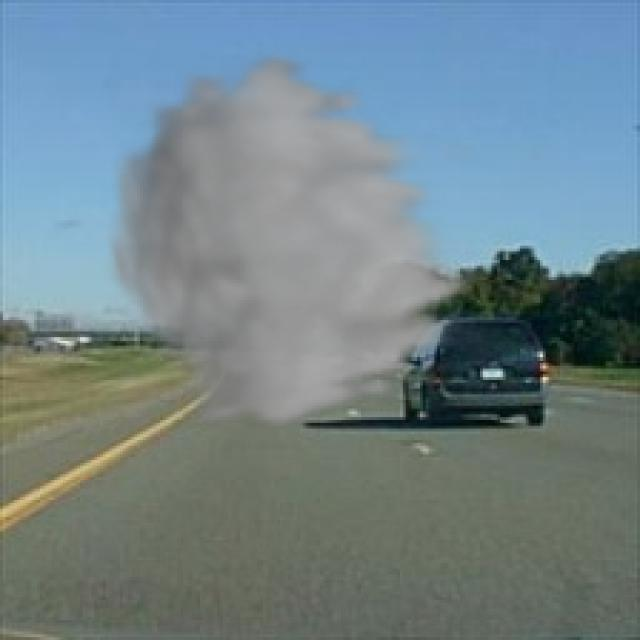Smoke: (100, 49, 486, 432)
